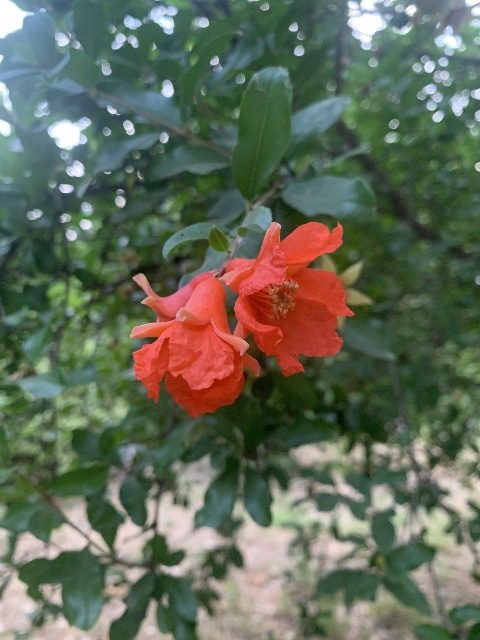flower: (220, 220, 356, 376), (130, 278, 260, 418), (132, 272, 213, 323)
